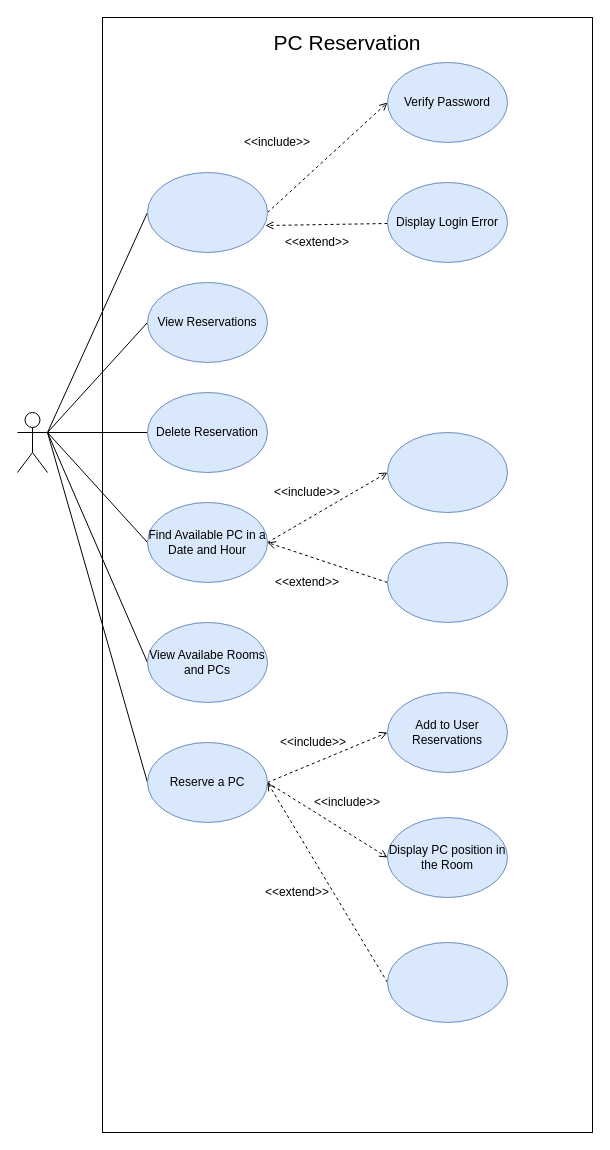
Some shapes in this 610 by 1150 pixel diagram are drawn without their labels. The shapes that lost their labels are listed below. From the top down, each one's centre as x and y in pixels, then its label:
(207,212): Login
(32,442): User
(447,472): Check correct Date and Hour
(447,582): Display Find Error
(447,982): Display Reservation Error
